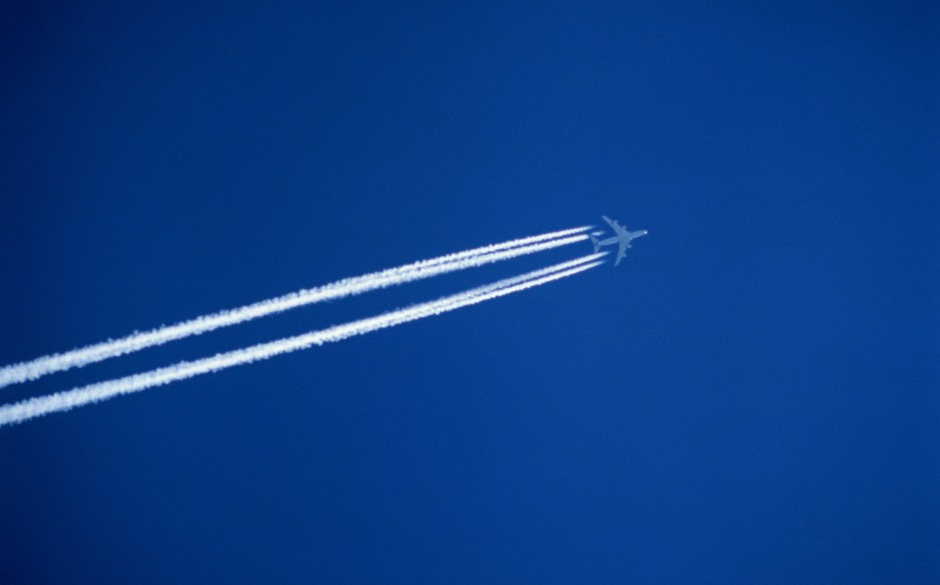plane: (588, 208, 652, 267)
